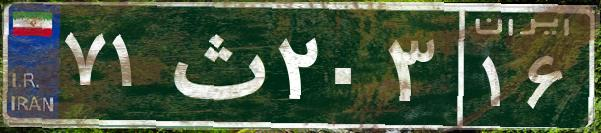0: (330, 28, 385, 110)
1: (475, 38, 525, 113), (110, 28, 158, 105)
2: (273, 28, 330, 110)
3: (385, 28, 445, 110)
6: (525, 38, 570, 115)
7: (57, 26, 110, 107)
ث: (158, 15, 273, 115)
